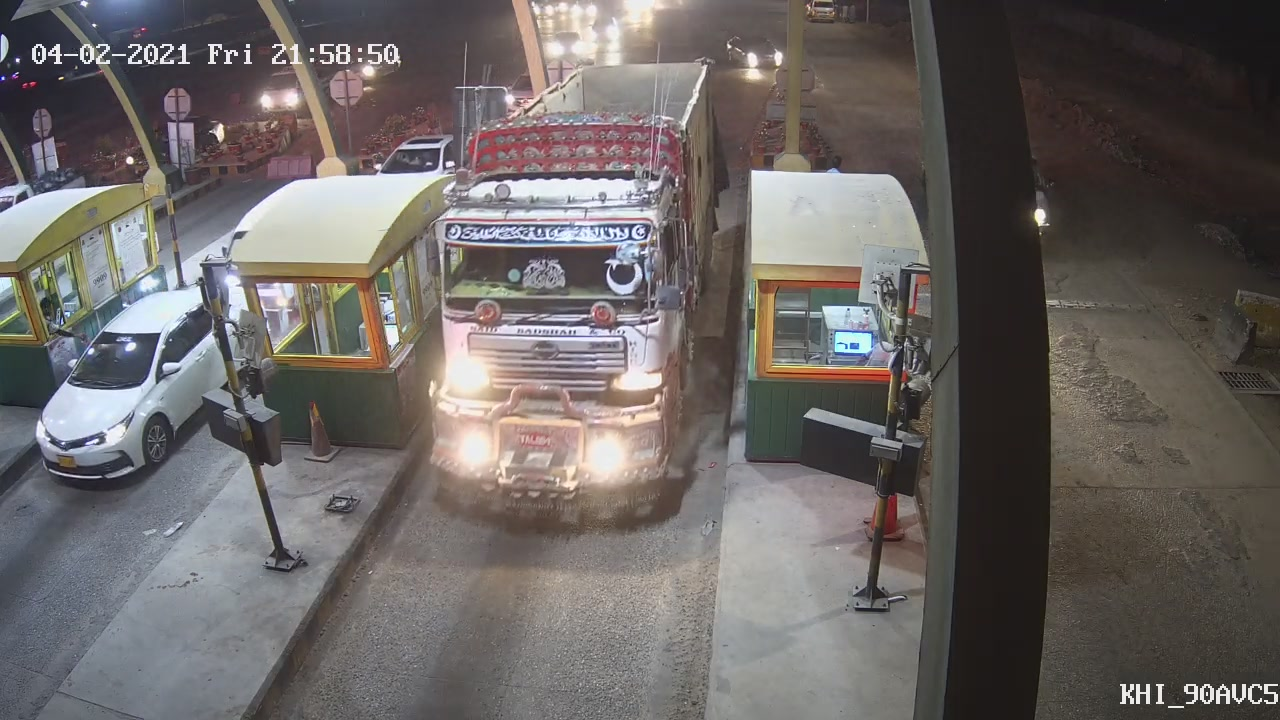F5: (423, 56, 729, 523)
